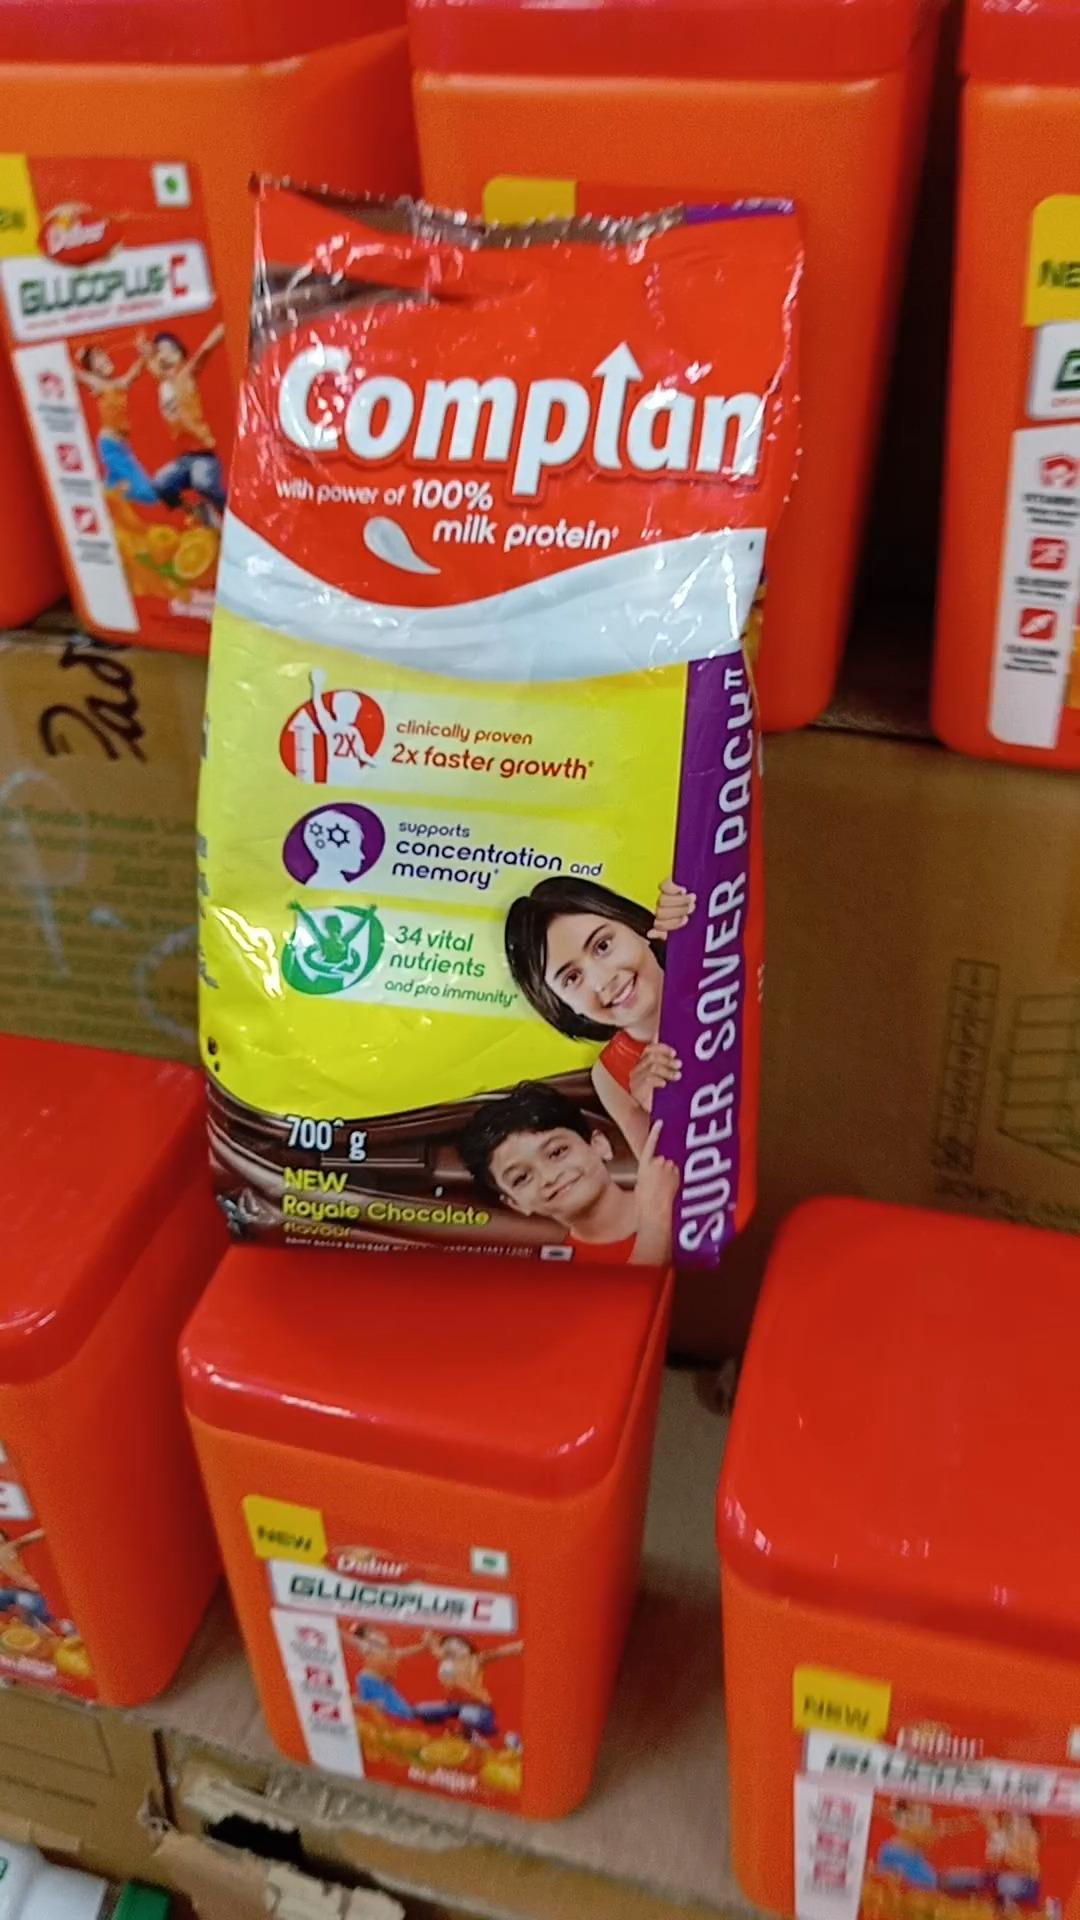COMPLAN_RC_POUCH_700_GMS_12: (214, 183, 750, 1259)
